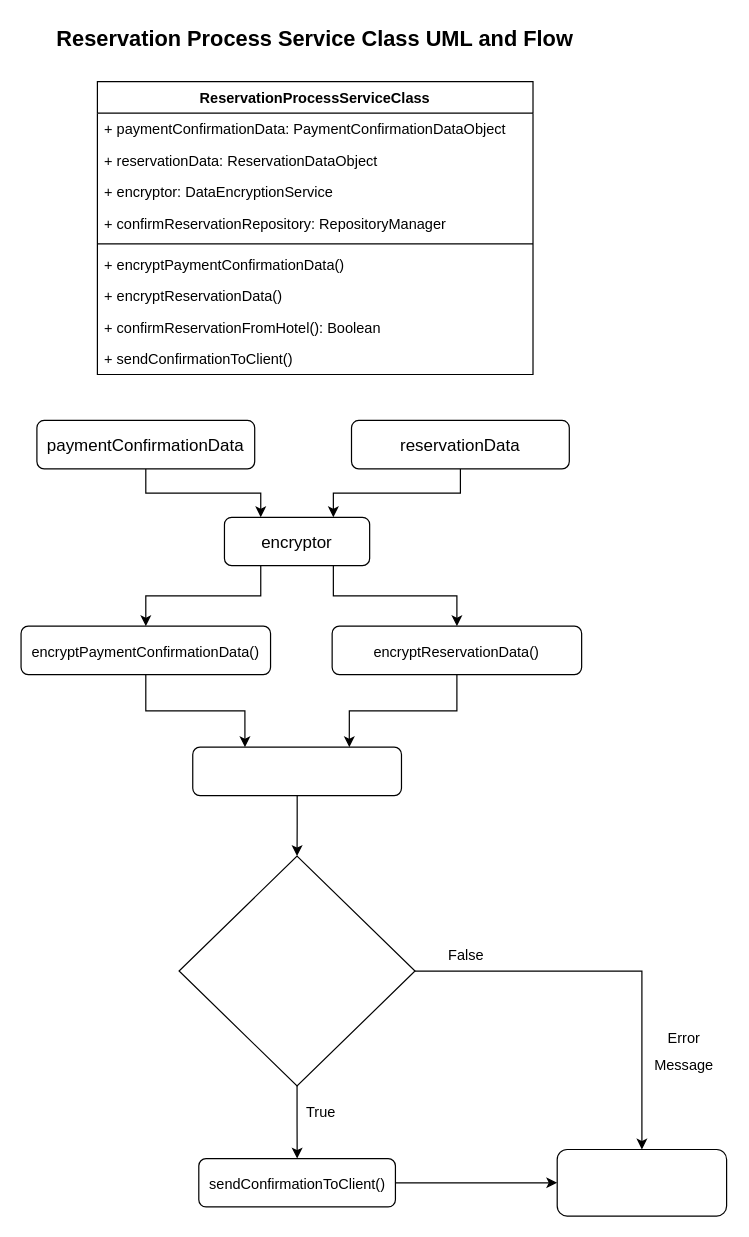
This 749x1237 diagram has some shape labels left out. The shapes that lost their labels are listed below. From the top down, each one's centre as x and y in pixels, then its label:
[296,771]: confirmReservationRepository
[296,970]: confirmReservationFromHotel()
[641,1182]: Client Side Reservation Module
